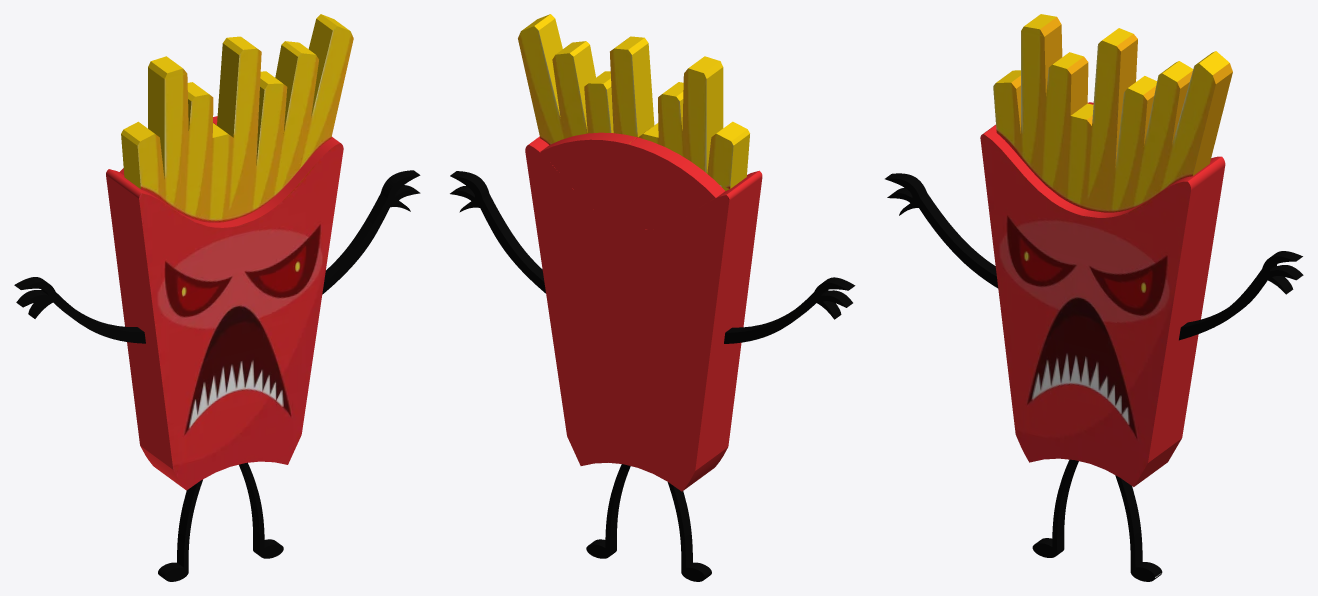
Rendered from eviltreat2.fbx.
3 renders of one model, left to right at view 1: azimuth 30°, elevation 25°; view 2: azimuth 150°, elevation 25°; view 3: azimuth 330°, elevation 25°, orthographic. The views are drawn at different scales.
Visible parts, largest first — view 1: evil treat; view 2: evil treat; view 3: evil treat.
Part boxes in pixels (box(x1,y1,x2,y2)): evil treat: box(14, 14, 420, 581); evil treat: box(450, 14, 855, 581); evil treat: box(885, 14, 1303, 581).
Size of the model in its own units: 167 by 208 by 24.
Materials: 6 (2 with a texture image).
